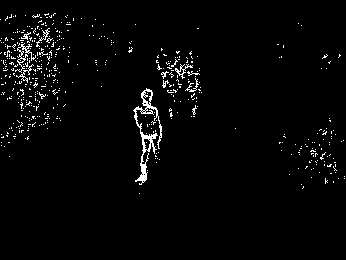person: (133, 87, 161, 190)
